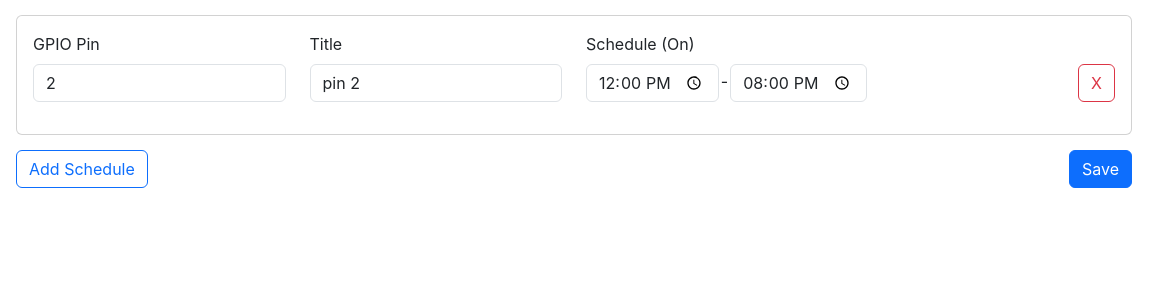
Scenario: when saving › validation error when incorrect pin
Replace the text in the number field with test id "pin-number-input" with "x". click: coordinates (159, 83)
box: [33,64,286,102]
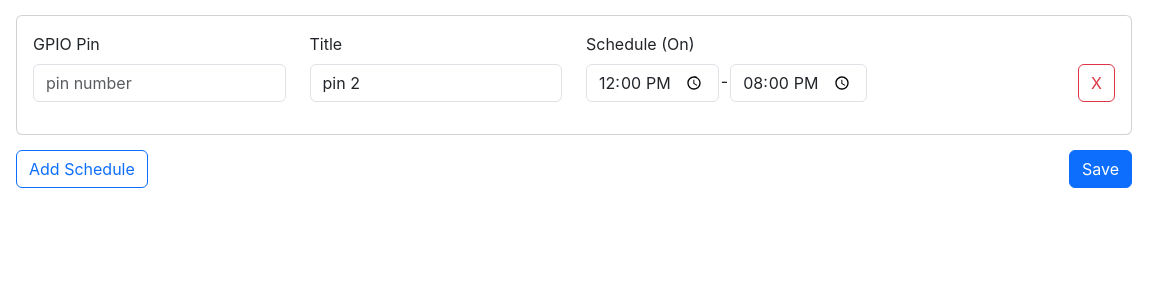
Click the button with test id "save-button". click: coordinates (1100, 169)
box: [1069,150,1132,188]
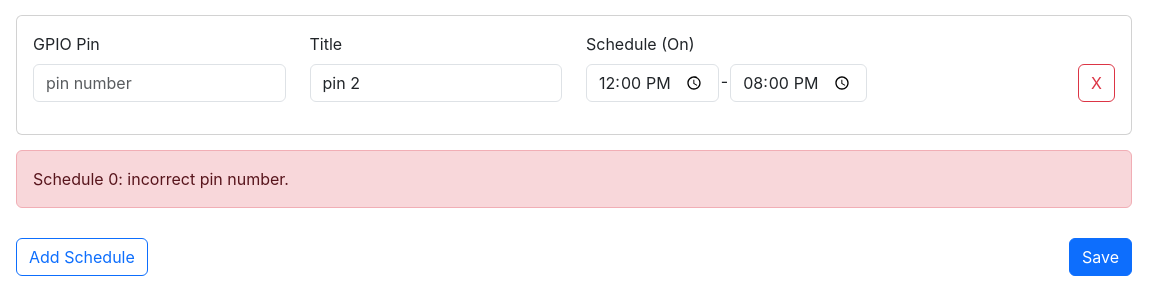
Result: the message with test id "pin-config-validation-error" shows "incorrect pin number" at [33,169,289,189]
